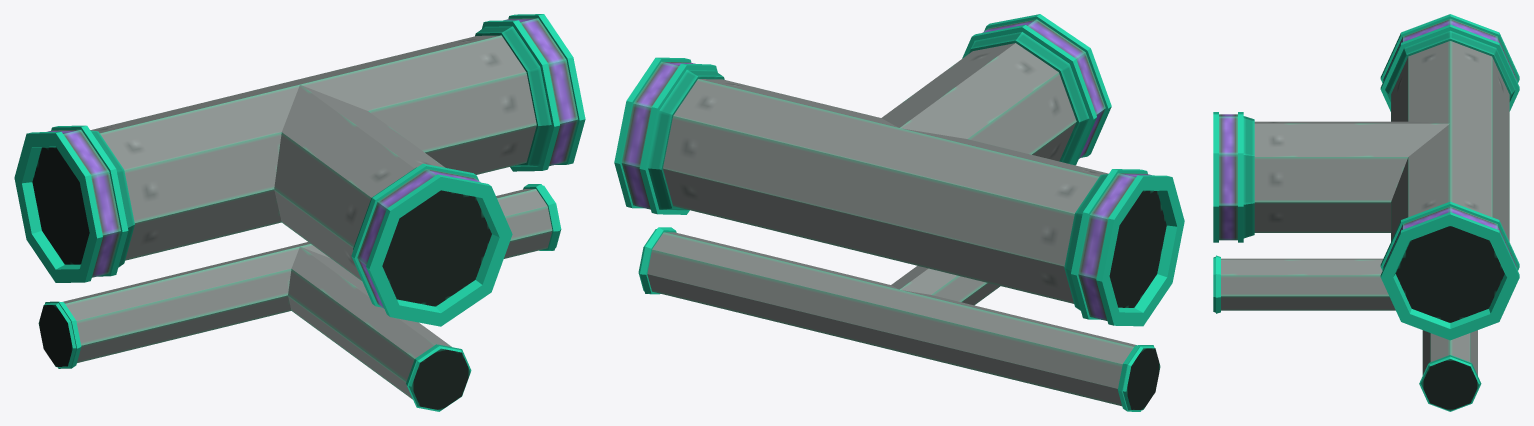
The model's file is pipe_t.fbx.
3 renders of one model, left to right at view 1: azimuth 30°, elevation 25°; view 2: azimuth 150°, elevation 25°; view 3: azimuth 270°, elevation 25°, orthographic. The views are drawn at different scales.
Visible parts, largest first — view 1: Object002; view 2: Object002; view 3: Object002.
Boxes of the visible parts, x1,y1,x2,y2 form: Object002: (14,14,585,411); Object002: (614,14,1184,411); Object002: (1213,14,1519,411).
Bounding box in the file's own units: 254 × 117 × 164.
Materials: 1 (1 with a texture image).
